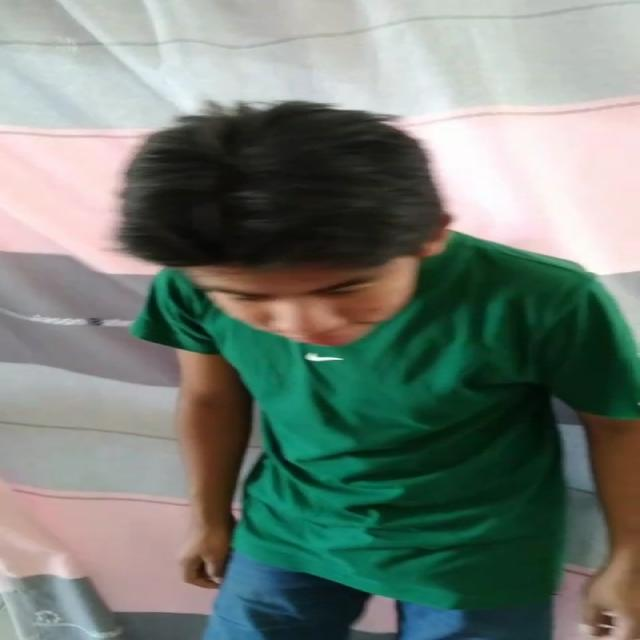9_cabeza_baja: (120, 101, 450, 347)
